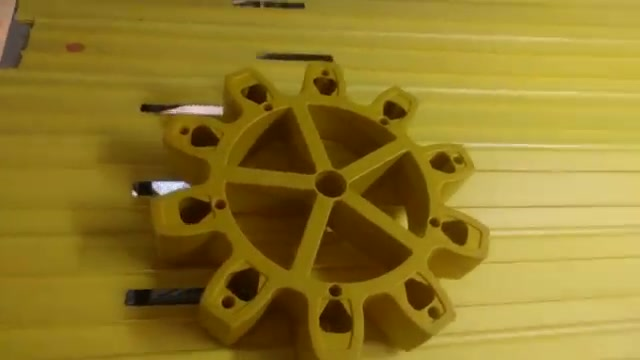gear: (136, 38, 498, 360)
